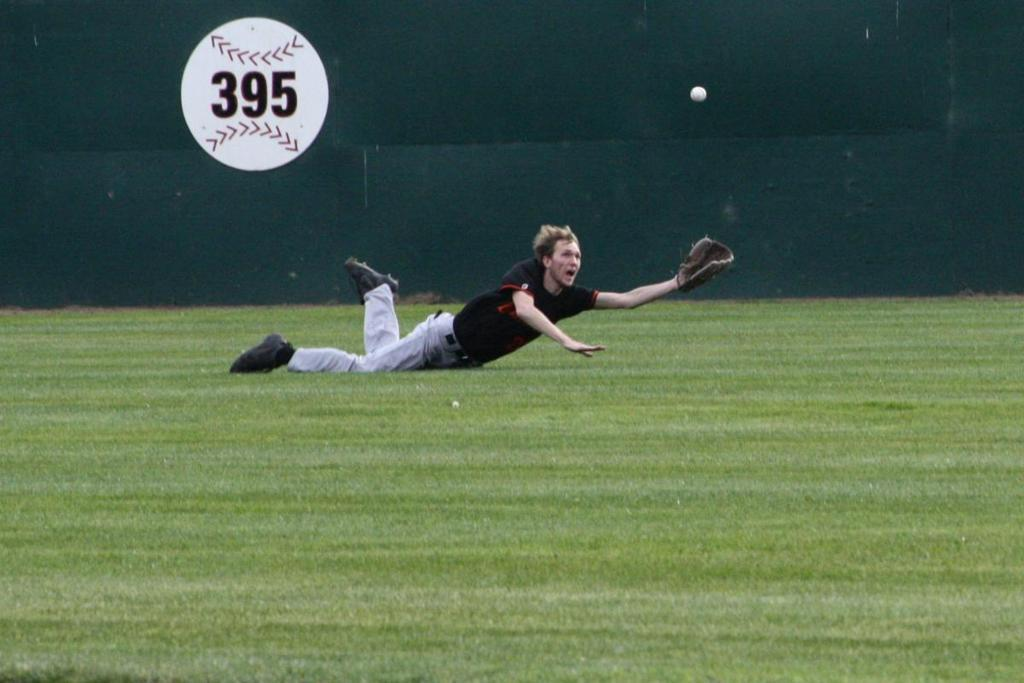face: (552, 242, 581, 287)
